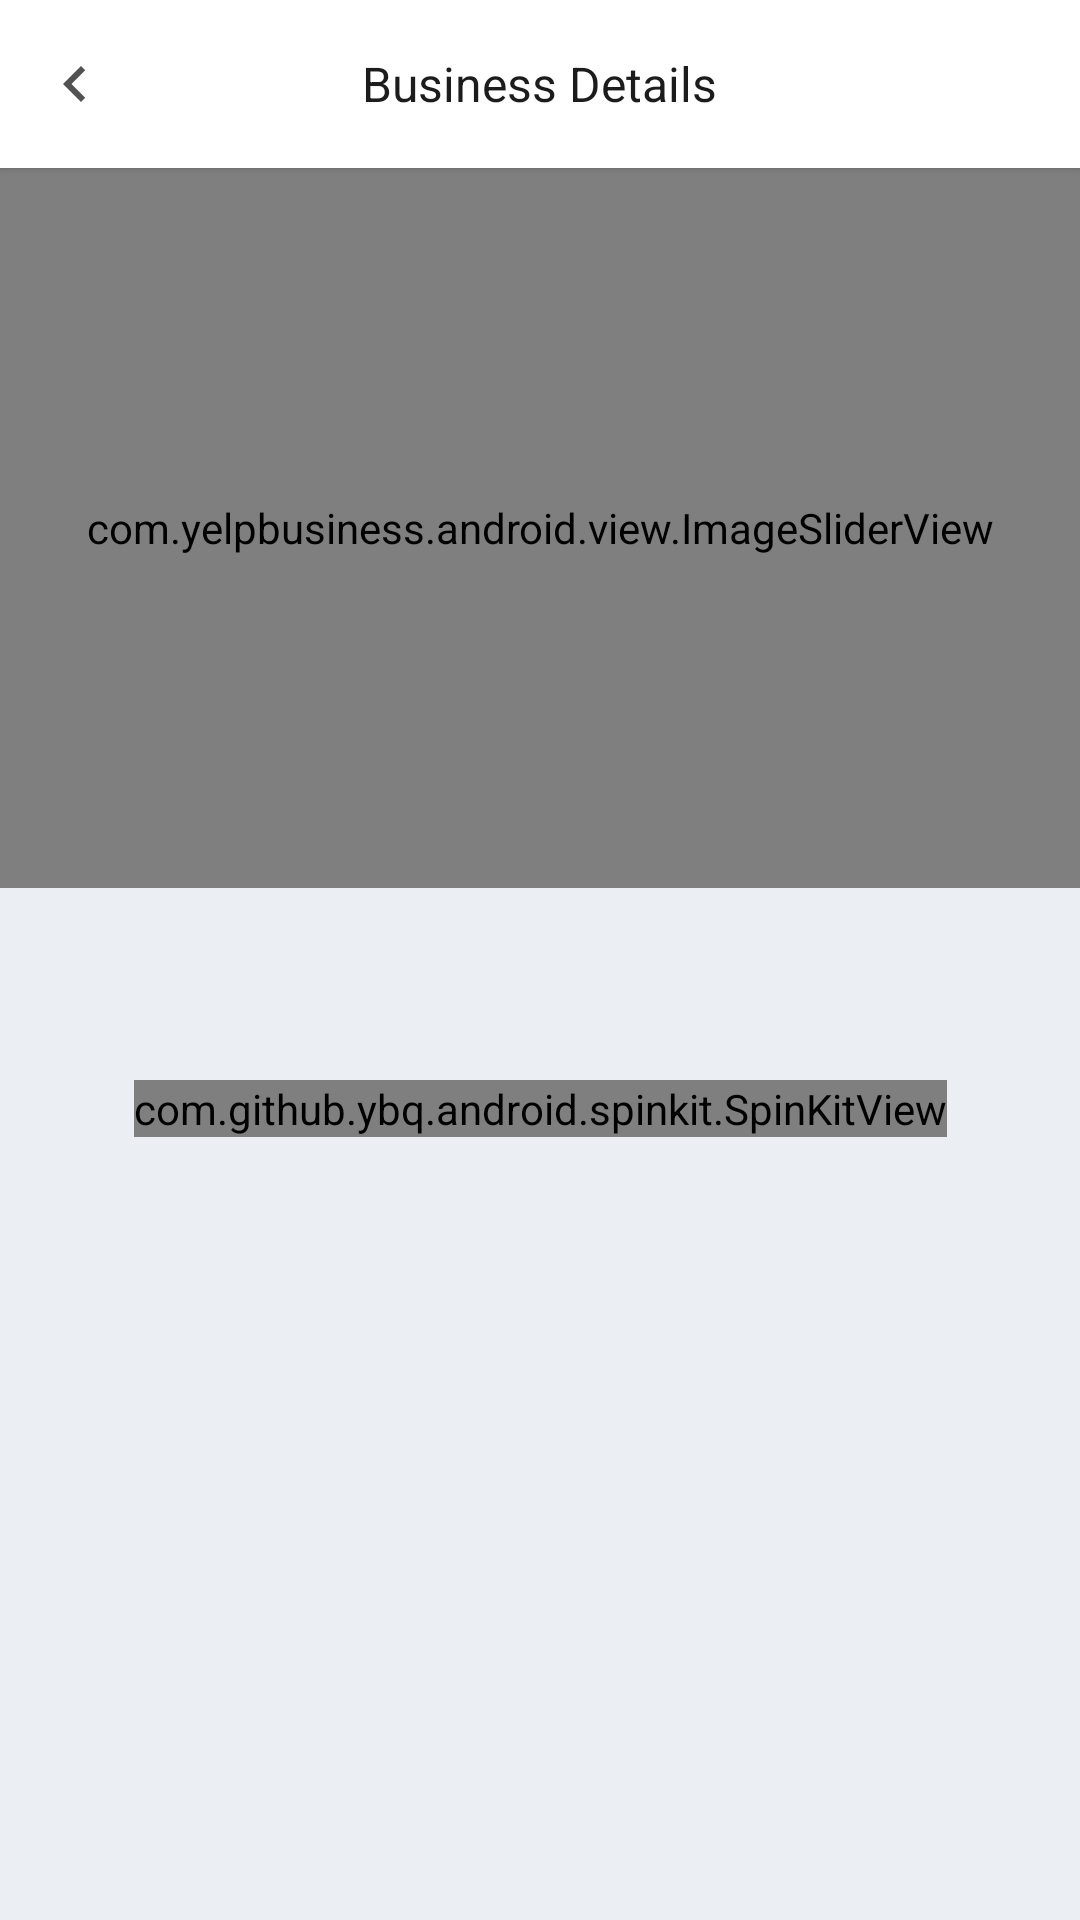

Named icons in this screenshot (1080px x 1920px) and their centers, [x,y]:
back: [74,84]
